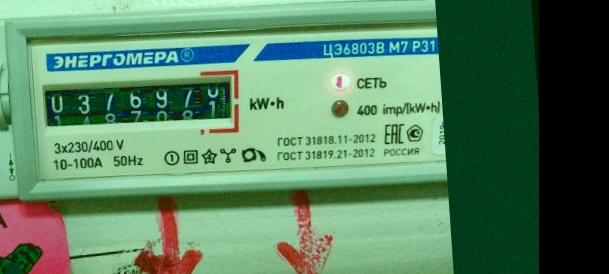0: (48, 90, 63, 113)
1: (206, 98, 218, 118)
3: (76, 92, 92, 114)
6: (127, 85, 143, 109)
7: (101, 88, 117, 113), (179, 84, 195, 108)
9: (153, 85, 168, 108)
screen: (33, 58, 246, 148)
